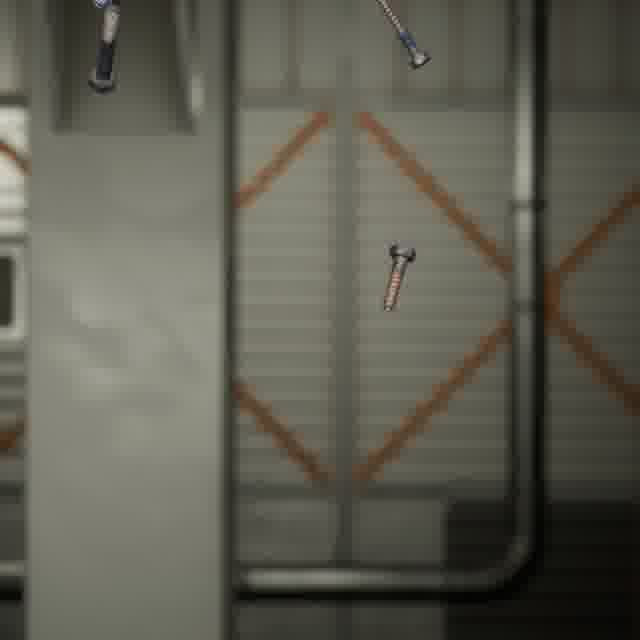bolt: (371, 0, 435, 73), (84, 0, 124, 97), (377, 240, 420, 317)
